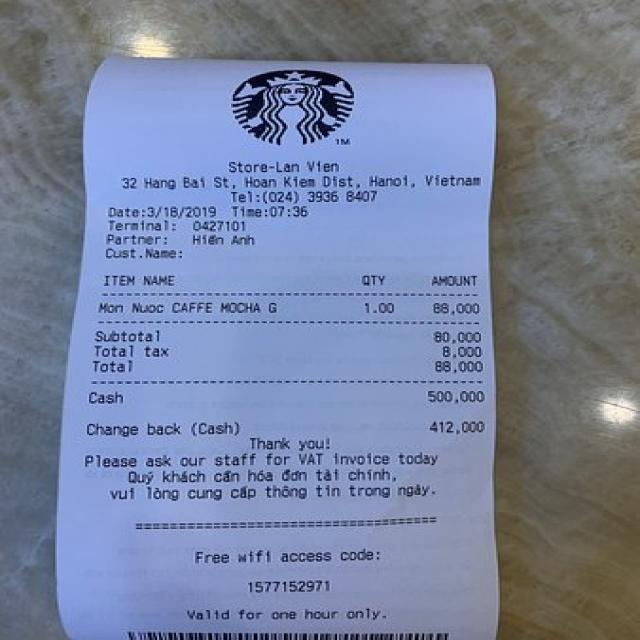Date: (143, 204, 220, 221)
Store_Name: (214, 64, 365, 152)
amount_number: (424, 360, 486, 377)
label_total: (88, 358, 136, 378)
